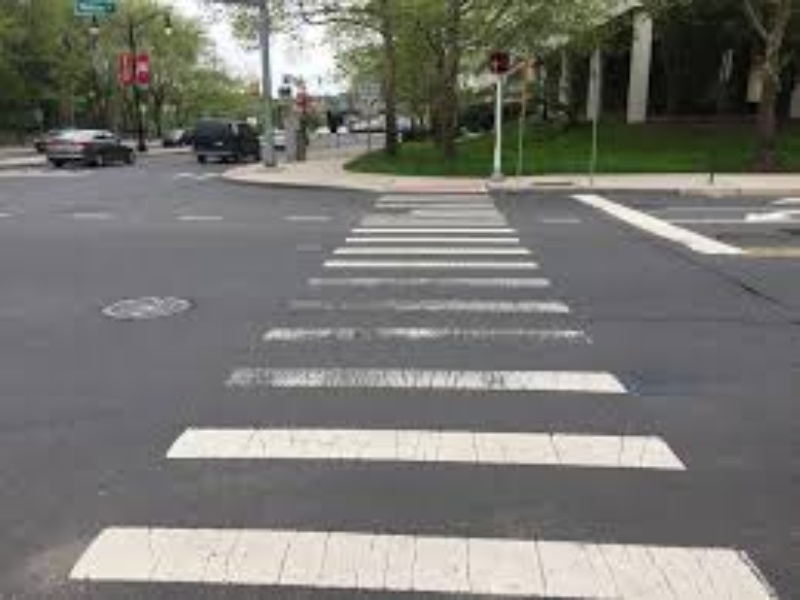zebra cross: (69, 194, 782, 596)
